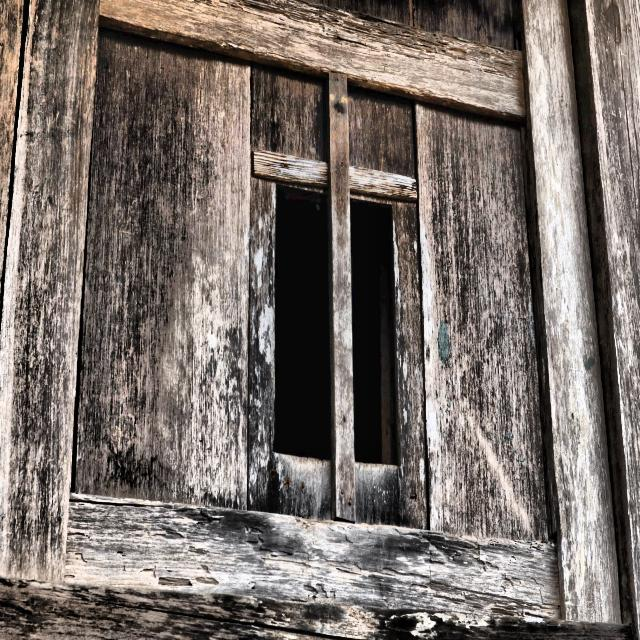wall: (2, 3, 639, 638)
window: (247, 150, 425, 531)
